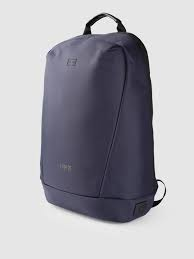backpack: (39, 12, 166, 222)
